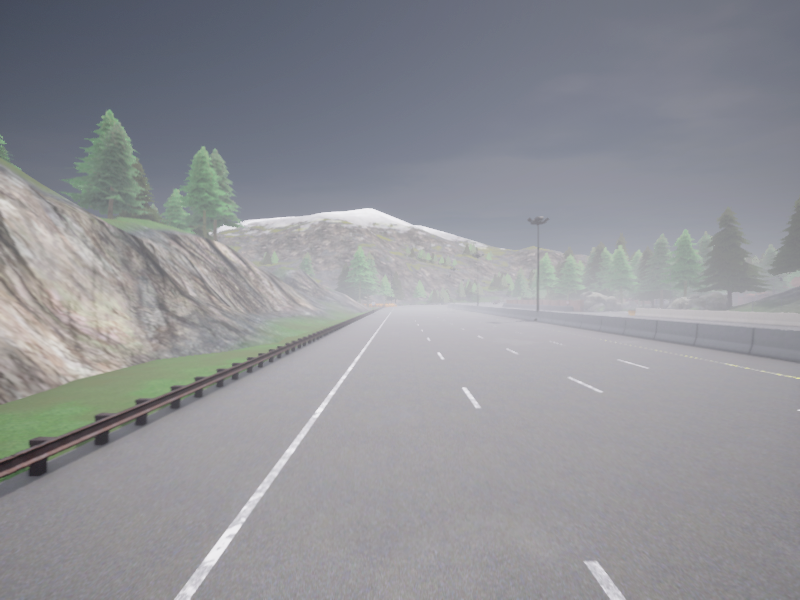vehicle: (493, 302, 498, 304)
